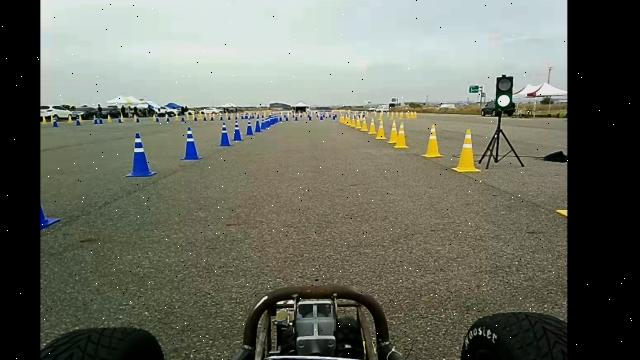blue cone: (125, 132, 157, 177), (180, 126, 202, 160), (218, 122, 232, 147), (232, 120, 244, 141), (245, 124, 254, 136), (254, 120, 262, 133)
yellow cone: (451, 128, 481, 173), (421, 124, 444, 158), (393, 121, 409, 149), (387, 120, 398, 144), (375, 120, 387, 140), (368, 118, 377, 134)
